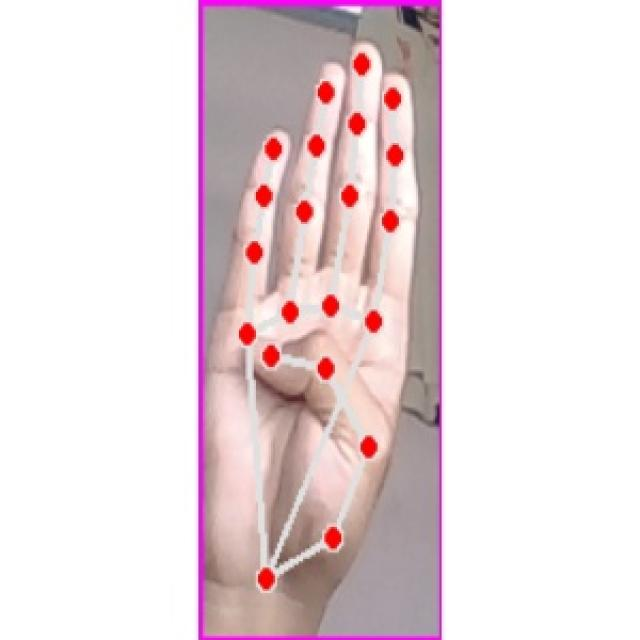B: (212, 41, 433, 607)
